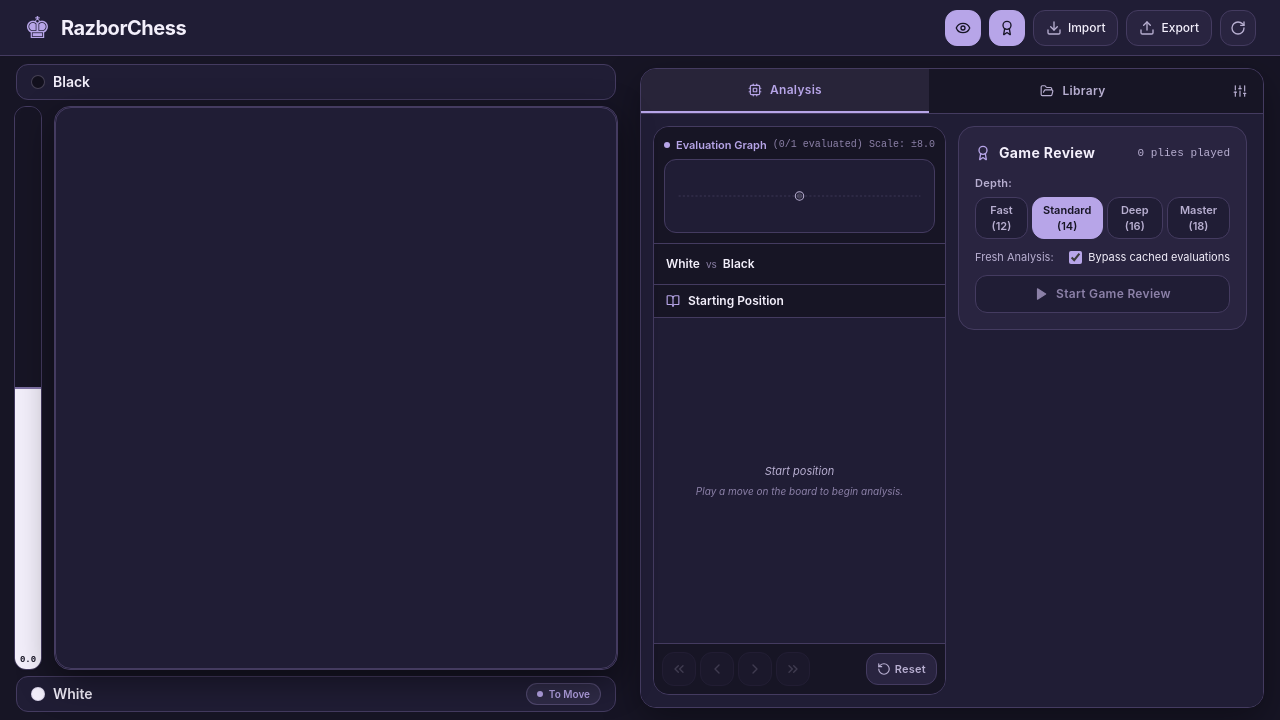
Scenario: RazborChess: Interactive Board & Navigation › correctly aligns player panels with board orientation and flips both faithfully
expect the element with test id "top-player-panel" reads "Black": met, box [53,73,90,90]
expect the element with test id "bottom-player-panel" shows "White": met, box [53,685,93,702]
# Flip orientation (Black at bottom, White at top)
Click the button titled "Flip Board": click(1238, 28) [1220,10,1256,46]
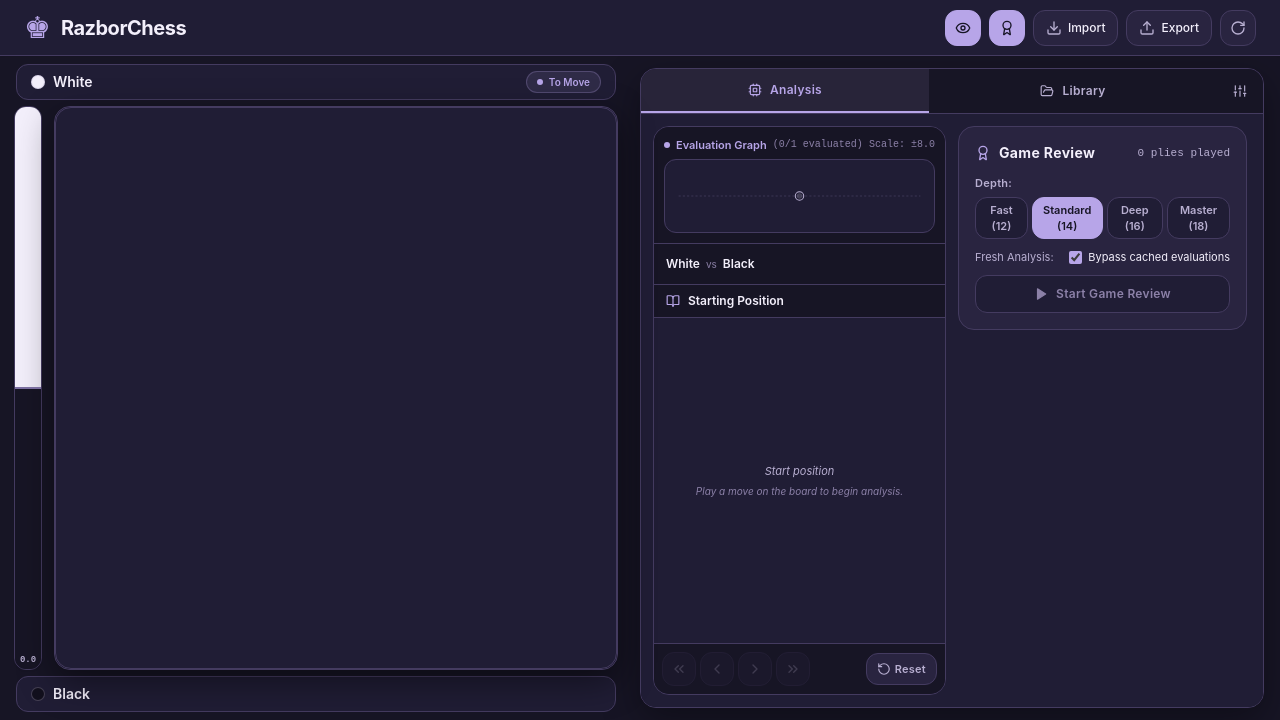
expect the element with test id "top-player-panel" shows "White": met, box [53,73,93,90]
expect the element with test id "bottom-player-panel" reads "Black": met, box [53,685,90,702]
expect the element with test id "top-player-panel" shows "To Move": met, box [549,76,590,88]
